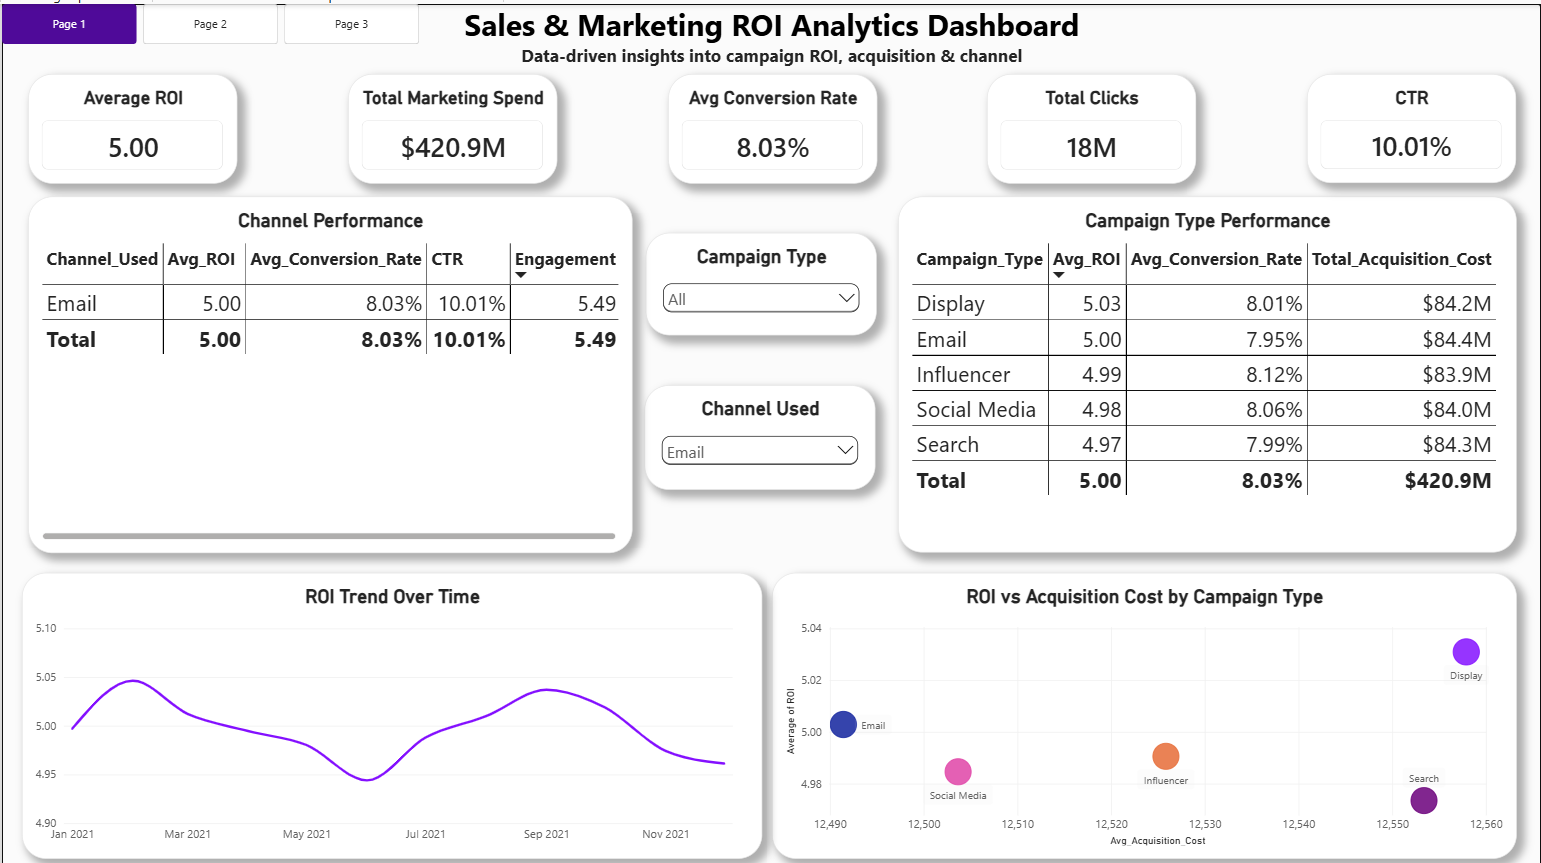

What the dashboard file says about the page in this screenshot:
{"tool":"powerbi","page":{"name":"Page 1","canvas":[1920,1080],"ordinal":0},"visuals":[{"type":"cardVisual","title":"Average ROI","fields":{"Data":["_Measure.Avg_ROI"]},"box":[33,86.9,260.7,136.7],"z":0},{"type":"cardVisual","title":"Avg Conversion Rate","fields":{"Data":["_Measure.Avg_Conversion_Rate"]},"box":[830.4,87,260.7,136.7],"z":1000},{"type":"cardVisual","title":"Total Clicks","fields":{"Data":["_Measure.Total_Clicks"]},"box":[1229,87,260.7,136.7],"z":2000},{"type":"cardVisual","title":"Total Marketing Spend","fields":{"Data":["_Measure.Total_Acquisition_Cost"]},"box":[431.7,86.9,260.7,136.7],"z":3000},{"type":"slicer","title":"Channel Used","fields":{"Values":["marketing_campaign_dataset.Channel_Used"]},"box":[801.7,475,288.3,130],"z":4000},{"type":"slicer","title":"Campaign Type","fields":{"Values":["marketing_campaign_dataset.Campaign_Type"]},"box":[803.3,285,288.3,128.3],"z":5000},{"type":"textbox","box":[0,0,1920,80],"z":6000},{"type":"scatterChart","title":"ROI vs Acquisition Cost by Campaign Type","fields":{"Series":["marketing_campaign_dataset.Campaign_Type"],"Size":["_Measure.Total_Clicks"],"X":["_Measure.Avg_Acquisition_Cost"],"Y":["Avg(marketing_campaign_dataset.ROI)"]},"box":[960,708.6,928.6,357.1],"z":7000},{"type":"lineChart","title":"ROI Trend Over Time","fields":{"Category":["marketing_campaign_dataset.Date.Variation.Date Hierarchy.Year","marketing_campaign_dataset.Date.Variation.Date Hierarchy.Month"],"Y":["_Measure.Avg_ROI"]},"box":[24.3,708.6,922.9,357.1],"z":8000},{"type":"tableEx","title":"Channel Performance","fields":{"Values":["marketing_campaign_dataset.Channel_Used","_Measure.Avg_ROI","_Measure.Avg_Conversion_Rate","_Measure.CTR","Avg(marketing_campaign_dataset.Engagement_Score)"]},"box":[33.3,240,753.3,445],"z":9000},{"type":"tableEx","title":"Campaign Type Performance","fields":{"Values":["marketing_campaign_dataset.Campaign_Type","_Measure.Avg_ROI","_Measure.Avg_Conversion_Rate","_Measure.Total_Acquisition_Cost"]},"box":[1117.1,240,771.4,444.3],"z":10000},{"type":"cardVisual","title":"CTR","fields":{"Data":["_Measure.CTR"]},"box":[1627.7,86.9,260.8,136.4],"z":11000},{"type":"pageNavigator","box":[0,0,520,50],"z":12000}]}

Visuals, with their boxes in screenshot pixels (x1, y1, x2, y2), scaled from the page's 1920x1080 canvas onto the 1541x863 screenshot:
"Average ROI" cardVisual: select_region(26, 69, 236, 179)
"Avg Conversion Rate" cardVisual: select_region(666, 70, 876, 179)
"Total Clicks" cardVisual: select_region(986, 70, 1196, 179)
"Total Marketing Spend" cardVisual: select_region(346, 69, 556, 179)
"Channel Used" slicer: select_region(643, 380, 875, 483)
"Campaign Type" slicer: select_region(645, 228, 876, 330)
textbox: select_region(0, 0, 1540, 64)
"ROI vs Acquisition Cost by Campaign Type" scatterChart: select_region(770, 566, 1516, 852)
"ROI Trend Over Time" lineChart: select_region(20, 566, 760, 852)
"Channel Performance" tableEx: select_region(27, 192, 631, 547)
"Campaign Type Performance" tableEx: select_region(897, 192, 1516, 547)
"CTR" cardVisual: select_region(1306, 69, 1516, 178)
pageNavigator: select_region(0, 0, 417, 40)
